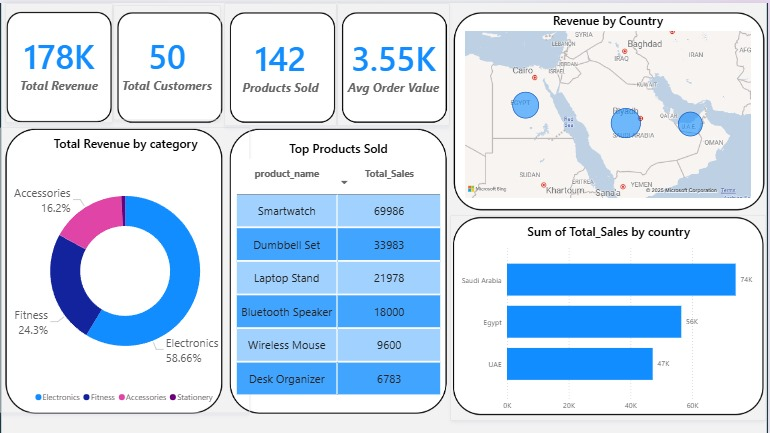

What the dashboard file says about the page in this screenshot:
{"tool":"powerbi","page":{"name":"Page 1","canvas":[1280,720],"ordinal":0},"visuals":[{"type":"card","fields":{"Values":["sales_transaction_gold.Total Revenue"]},"box":[8.3,0,180,200],"z":0},{"type":"donutChart","fields":{"Category":["product_bronze.category"],"Y":["sales_transaction_gold.Total Revenue"]},"box":[0,207.1,417.1,477.1],"z":1000},{"type":"map","title":"Revenue by Country","fields":{"Category":["contry_transaction_gold.country"],"Size":["Sum(contry_transaction_gold.Total_Sales)"]},"box":[763.3,3.3,500,333.3],"z":2000},{"type":"clusteredBarChart","fields":{"Category":["contry_transaction_gold.country"],"Y":["Sum(contry_transaction_gold.Total_Sales)"]},"box":[750,352.9,527.1,342.9],"z":3000},{"type":"tableEx","title":"Top Products Sold","fields":{"Values":["chart_transaction_gold.product_name","chart_transaction_gold.Total_Sales"]},"box":[381.7,208.3,365,488.3],"z":4000},{"type":"card","fields":{"Values":["country_customer_gold.Total Customers"]},"box":[188.3,3.3,180,191.7],"z":5000},{"type":"card","fields":{"Values":["transaction_bronze.Average Order Value"]},"box":[561.7,0,188.3,205],"z":7000},{"type":"card","fields":{"Values":["transaction_bronze.Total Quantity"]},"box":[373.3,0,188.3,205],"z":7001}]}

Visuals, with their boxes in screenshot pixels (x1, y1, x2, y2), scaled from the page's 1280x720 canvas onto the 770x433 screenshot:
card - sales_transaction_gold.Total Revenue: (left=5, top=0, right=113, bottom=120)
donutChart - product_bronze.category x sales_transaction_gold.Total Revenue: (left=0, top=125, right=251, bottom=411)
"Revenue by Country" map: (left=459, top=2, right=760, bottom=202)
clusteredBarChart - contry_transaction_gold.country x Sum(contry_transaction_gold.Total_Sales): (left=451, top=212, right=768, bottom=418)
"Top Products Sold" tableEx: (left=230, top=125, right=449, bottom=419)
card - country_customer_gold.Total Customers: (left=113, top=2, right=222, bottom=117)
card - transaction_bronze.Average Order Value: (left=338, top=0, right=451, bottom=123)
card - transaction_bronze.Total Quantity: (left=225, top=0, right=338, bottom=123)
